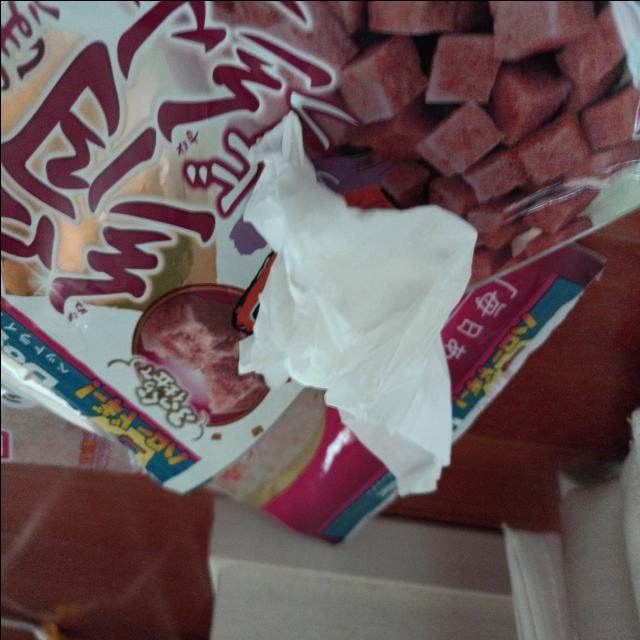Paper: (236, 132, 454, 486)
